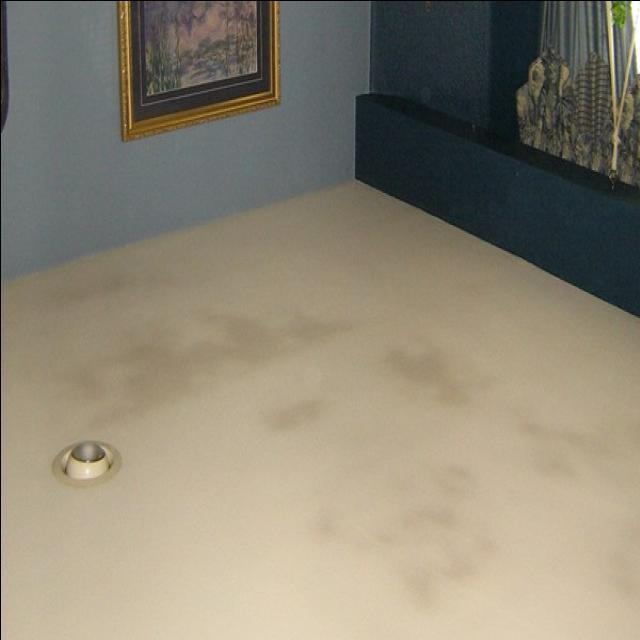leak: (47, 286, 339, 434), (291, 445, 502, 607), (510, 408, 640, 499), (382, 332, 476, 412)
